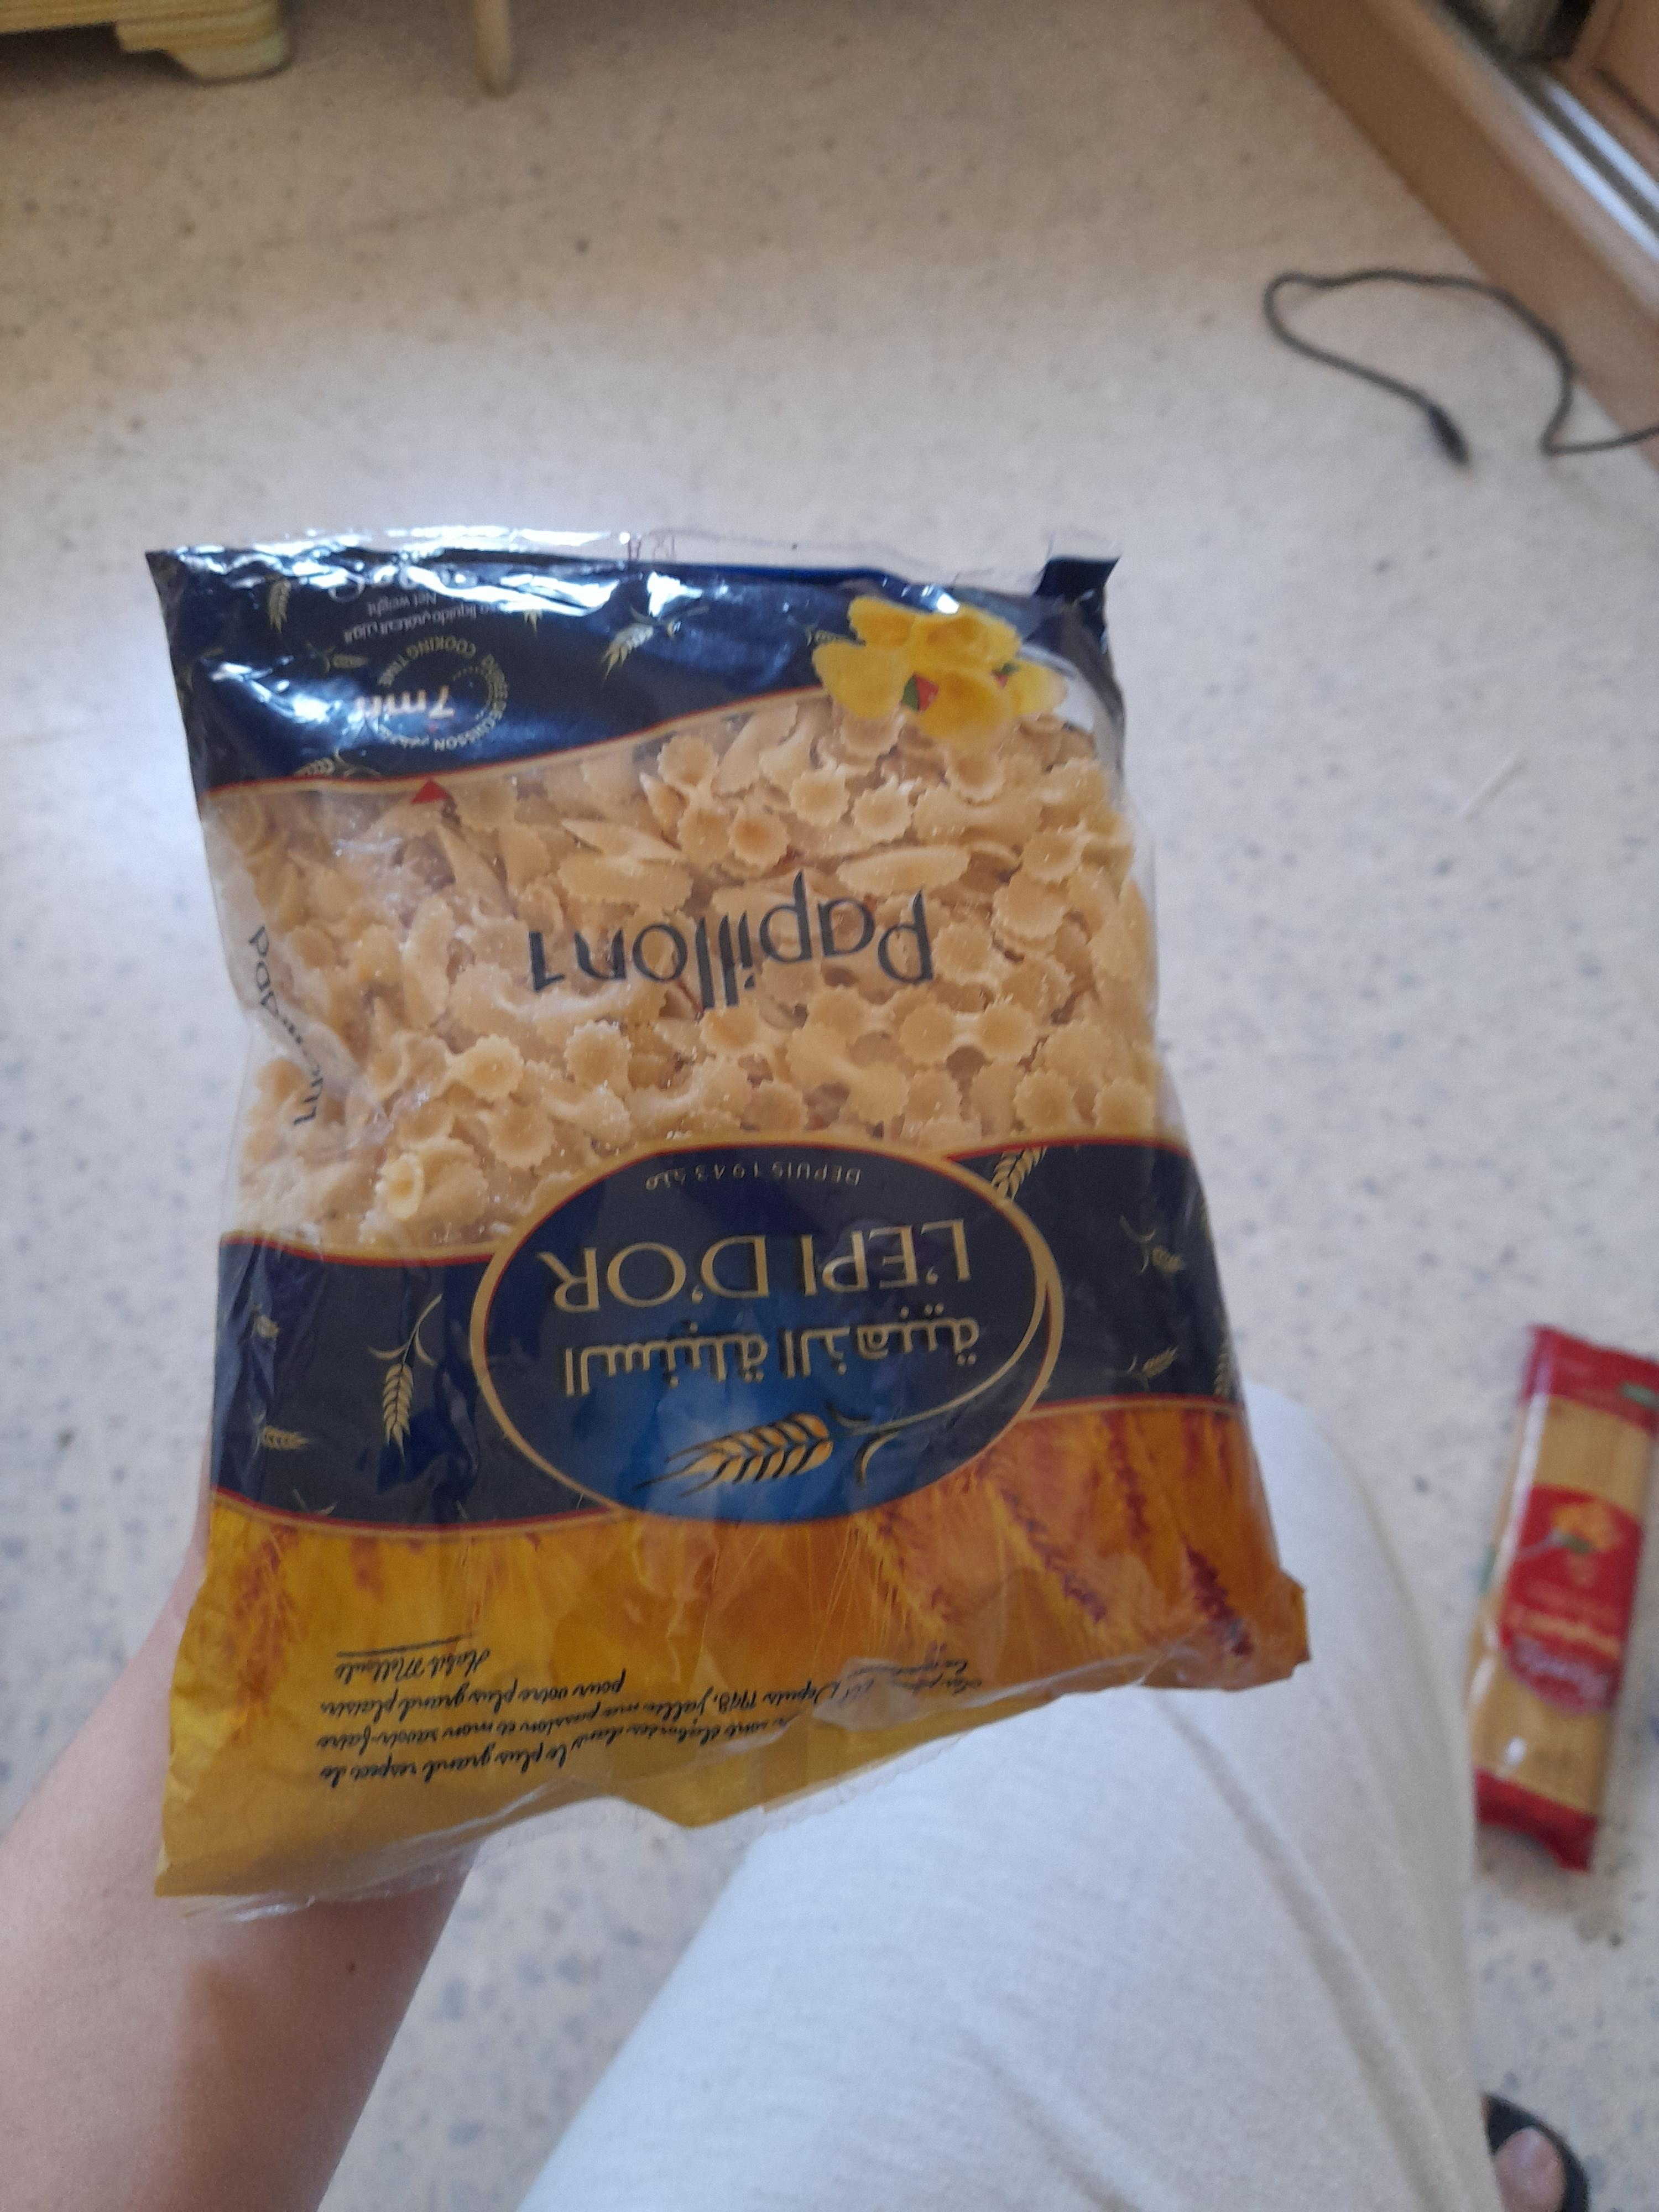Papillon: (117, 732, 972, 2212)
